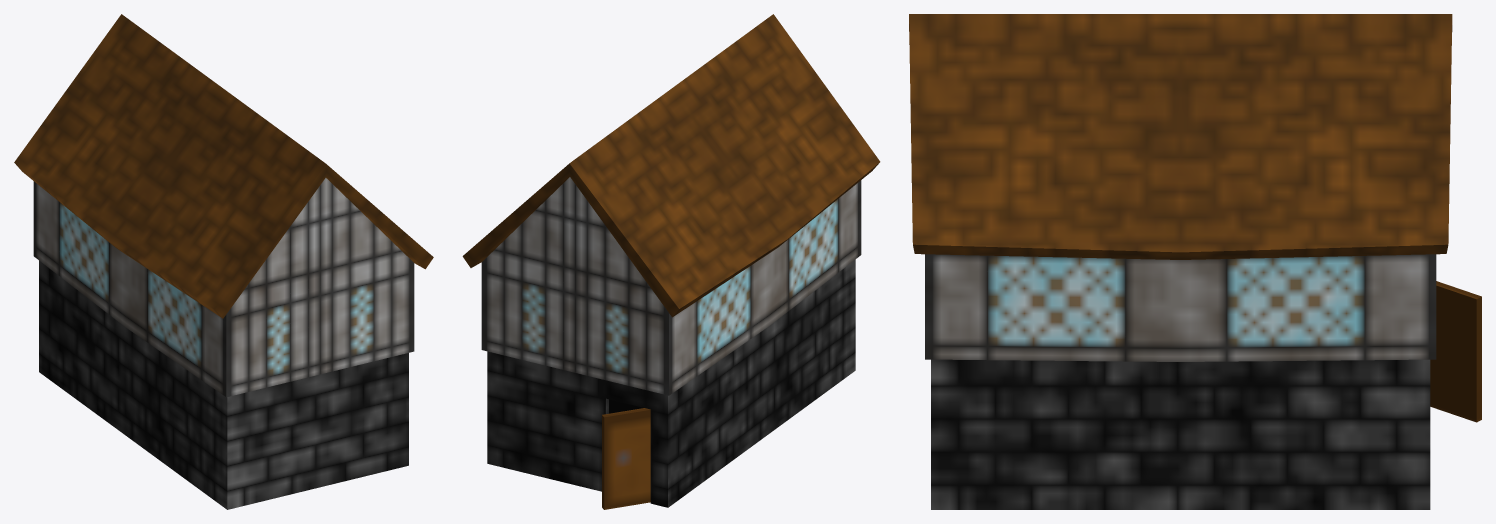
The model's file is Med Barn.fbx.
3 renders of one model, left to right at view 1: azimuth 30°, elevation 25°; view 2: azimuth 150°, elevation 25°; view 3: azimuth 270°, elevation 25°, orthographic. The views are drawn at different scales.
Parts seen in each view (by area): view 1: Cube.004; view 2: Cube.004, Cube.008; view 3: Cube.004, Cube.008.
Boxes of the visible parts, x1,y1,x2,y2 form: Cube.004: (14, 14, 433, 509); Cube.004: (462, 14, 880, 507); Cube.008: (602, 408, 650, 509); Cube.004: (909, 14, 1452, 509); Cube.008: (1430, 281, 1481, 422).
Size of the model in its own units: 631 by 391 by 531.
